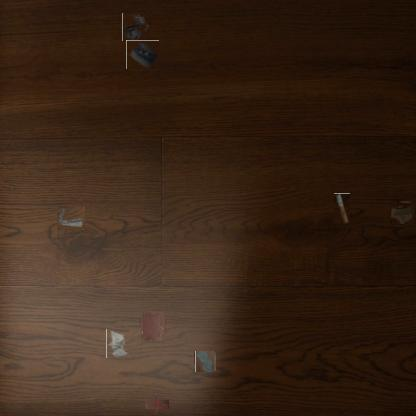dirty: (127, 39, 158, 70), (106, 328, 129, 358), (57, 206, 85, 230), (121, 15, 147, 40), (392, 201, 416, 226), (334, 193, 350, 224), (148, 396, 166, 412)
liquid: (140, 312, 167, 340), (195, 351, 215, 372)
